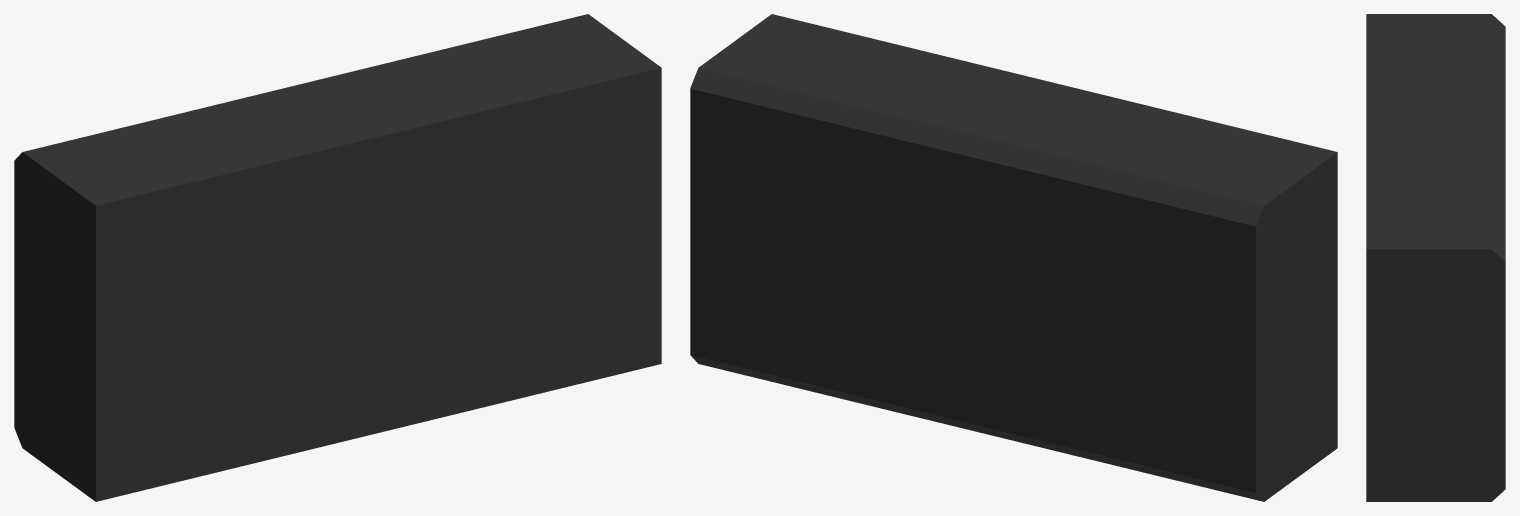
The model's file is LightStrip.fbx.
3 renders of one model, left to right at view 1: azimuth 30°, elevation 25°; view 2: azimuth 150°, elevation 25°; view 3: azimuth 270°, elevation 25°, orthographic. The views are drawn at different scales.
Parts seen in each view (by area): view 1: LightStrip; view 2: LightStrip; view 3: LightStrip.
Part boxes in pixels (x1,y1,x2,y2): LightStrip: (14,14,661,501); LightStrip: (690,14,1337,501); LightStrip: (1366,14,1505,501).
Bounding box in the file's own units: 100 × 50 × 25.
